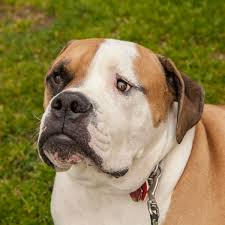Bulldog: (29, 25, 225, 216)
